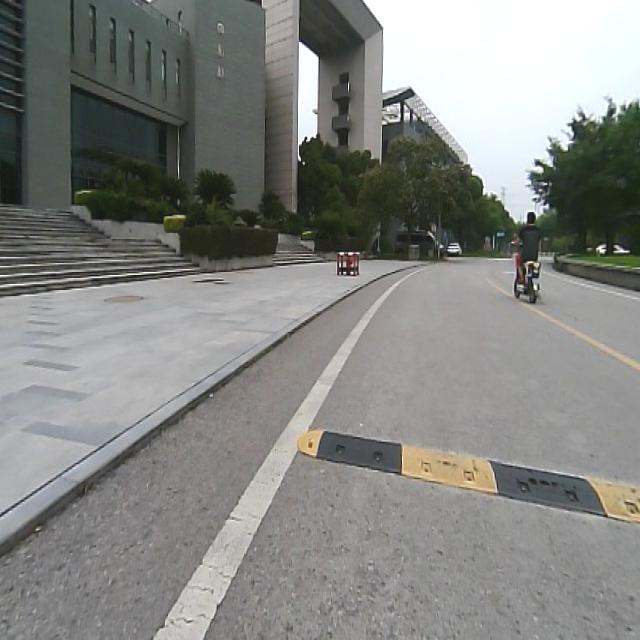Speed Bump: (297, 422, 640, 527)
